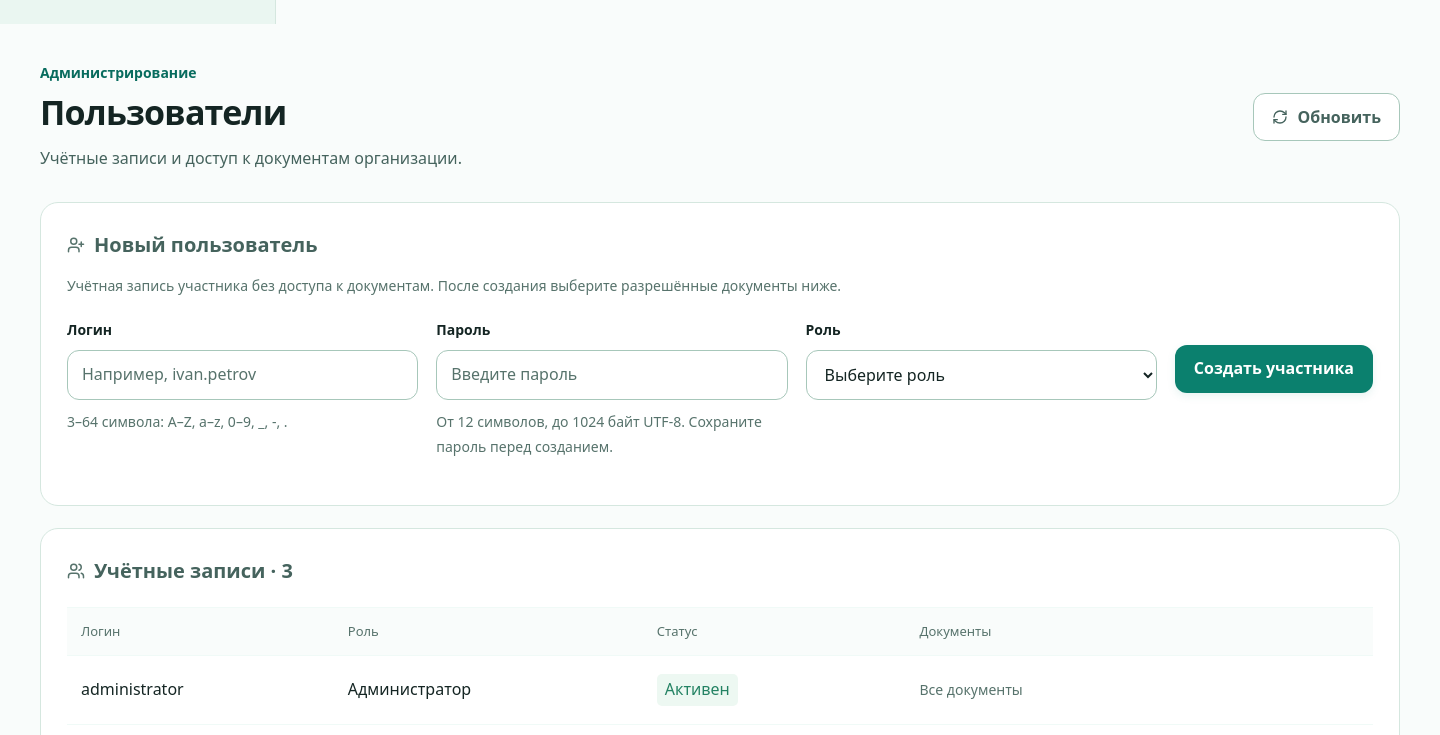
member creation with a visual job role › validates ab without a request
This screenshot has width=1440, height=735.
(page scrolled)
Type "ab" into the field with id "new-username" at (243, 375), box [67,350,418,400]
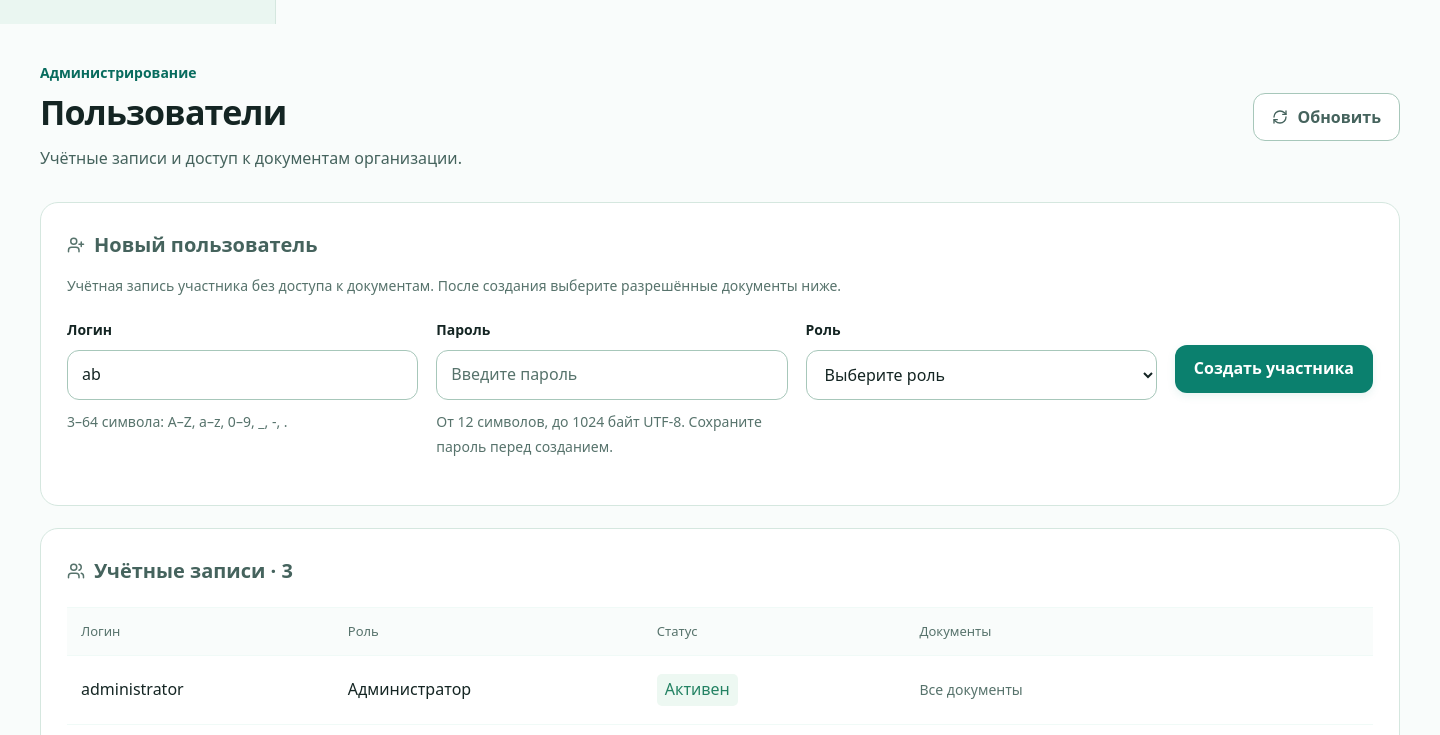
Type "fixture-password-123" into the password field with id "new-password" at (612, 375), box [436,350,788,400]
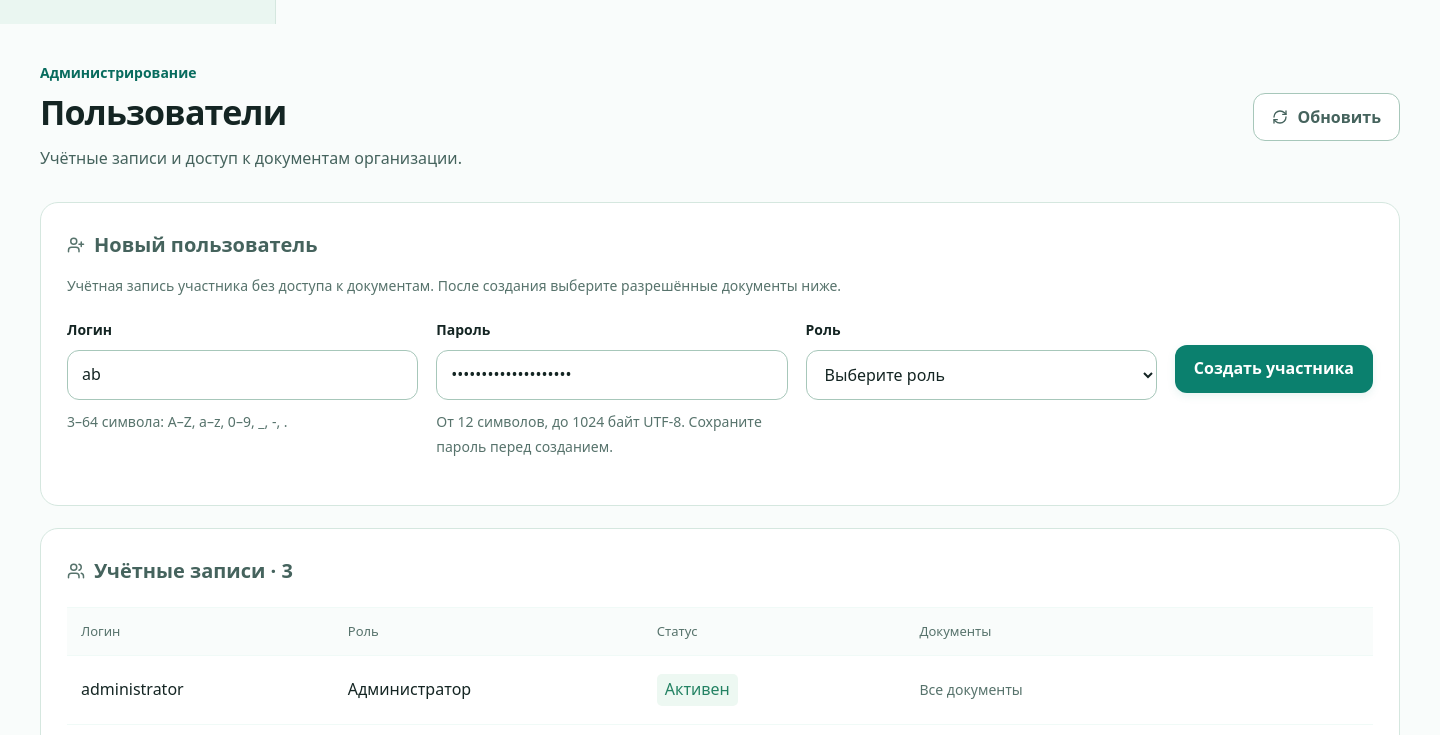
Submit the form, box [67,319,1373,459]
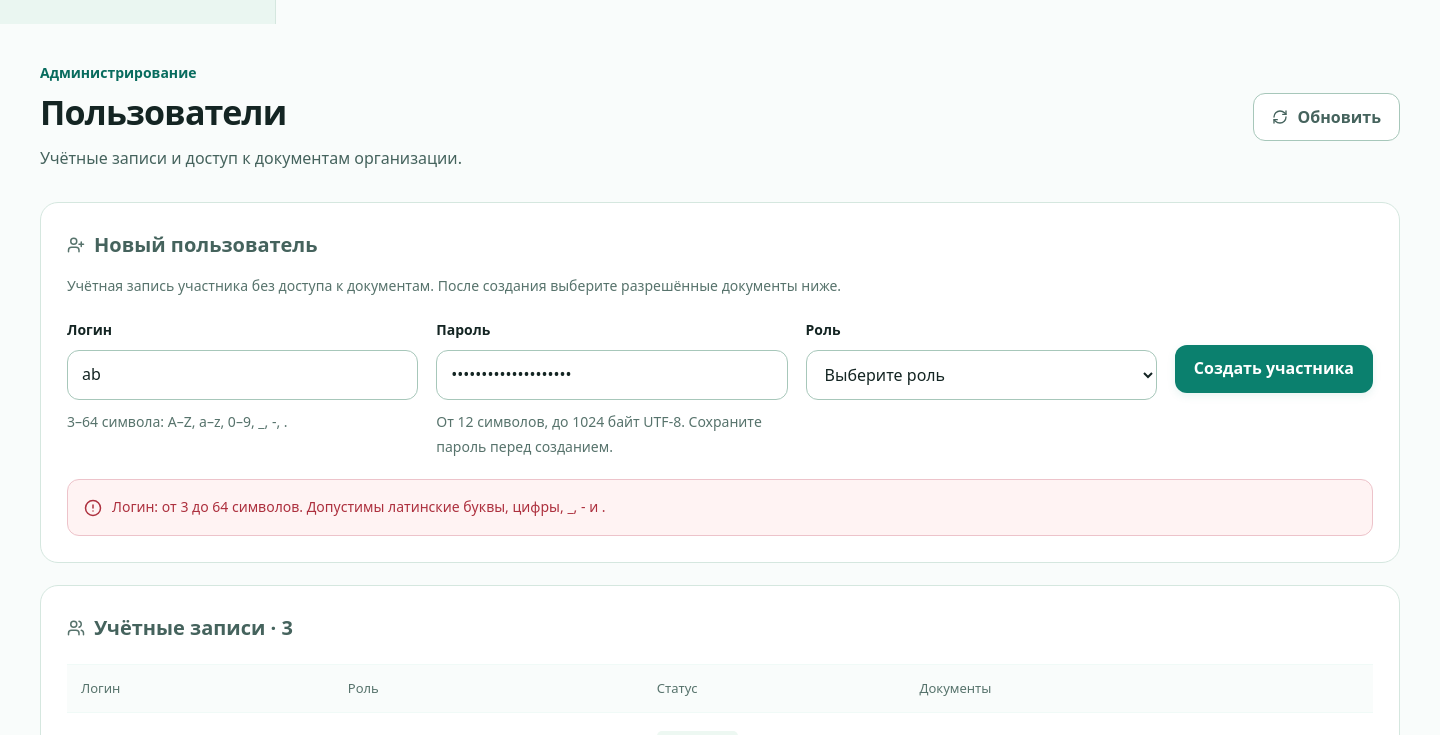
expect the message "Логин: от 3 до 64 символов. Допустимы латинские буквы, цифры, _, - и ." is shown: met, box [67,479,1373,536]
